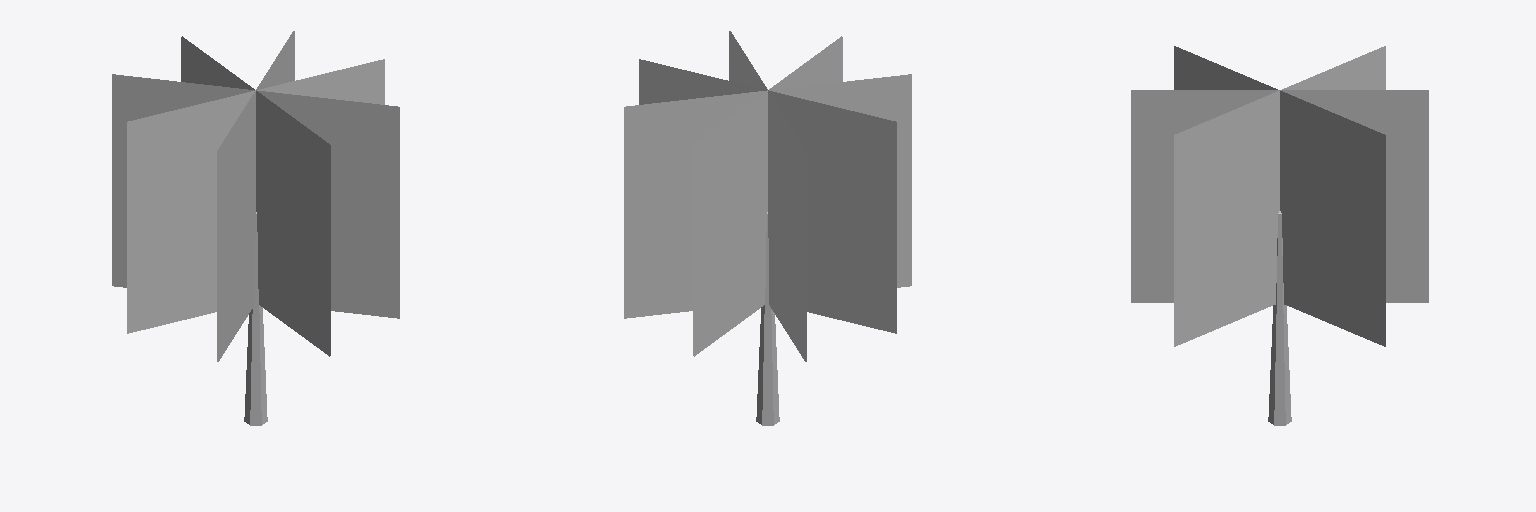
Rendered from tree36.obj.
3 renders of one model, left to right at view 1: azimuth 30°, elevation 25°; view 2: azimuth 150°, elevation 25°; view 3: azimuth 270°, elevation 25°, orthographic.
Visible parts, largest first — view 1: tree36; view 2: tree36; view 3: tree36.
Part boxes in pixels (bbox=[...]): tree36: bbox=[112, 31, 399, 425]; tree36: bbox=[624, 31, 911, 425]; tree36: bbox=[1131, 46, 1428, 425].
Size of the model in its own units: 10.2 by 12.5 by 10.2.